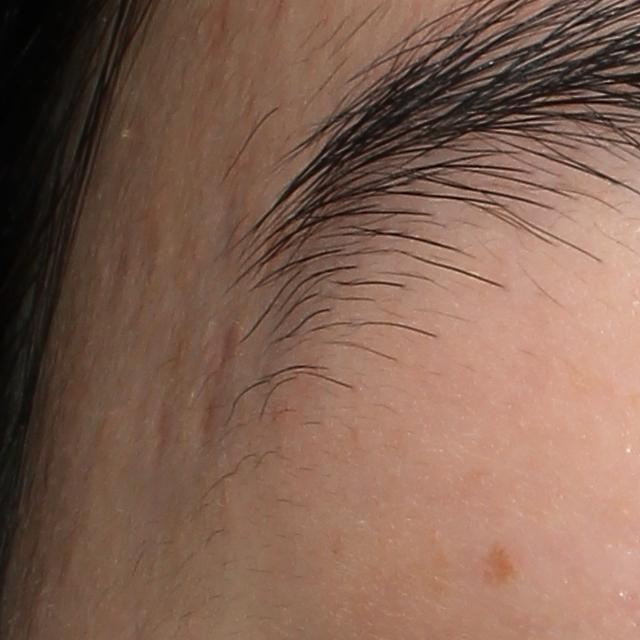melasma: (474, 528, 526, 594)
